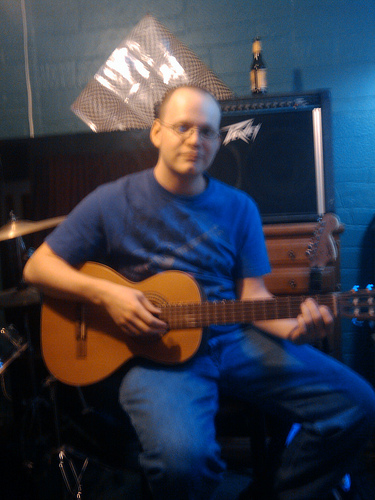guitar: (38, 259, 375, 389)
